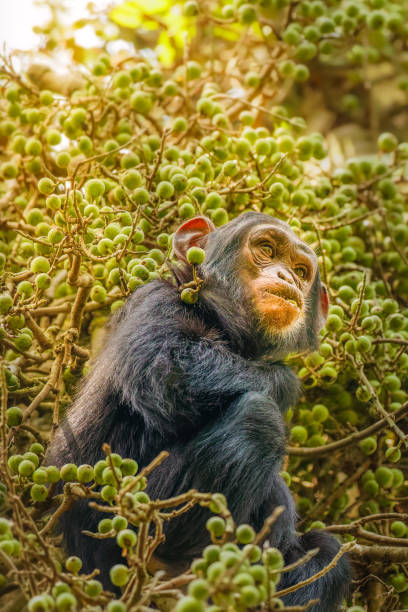chimpanzee: (178, 190, 338, 370)
